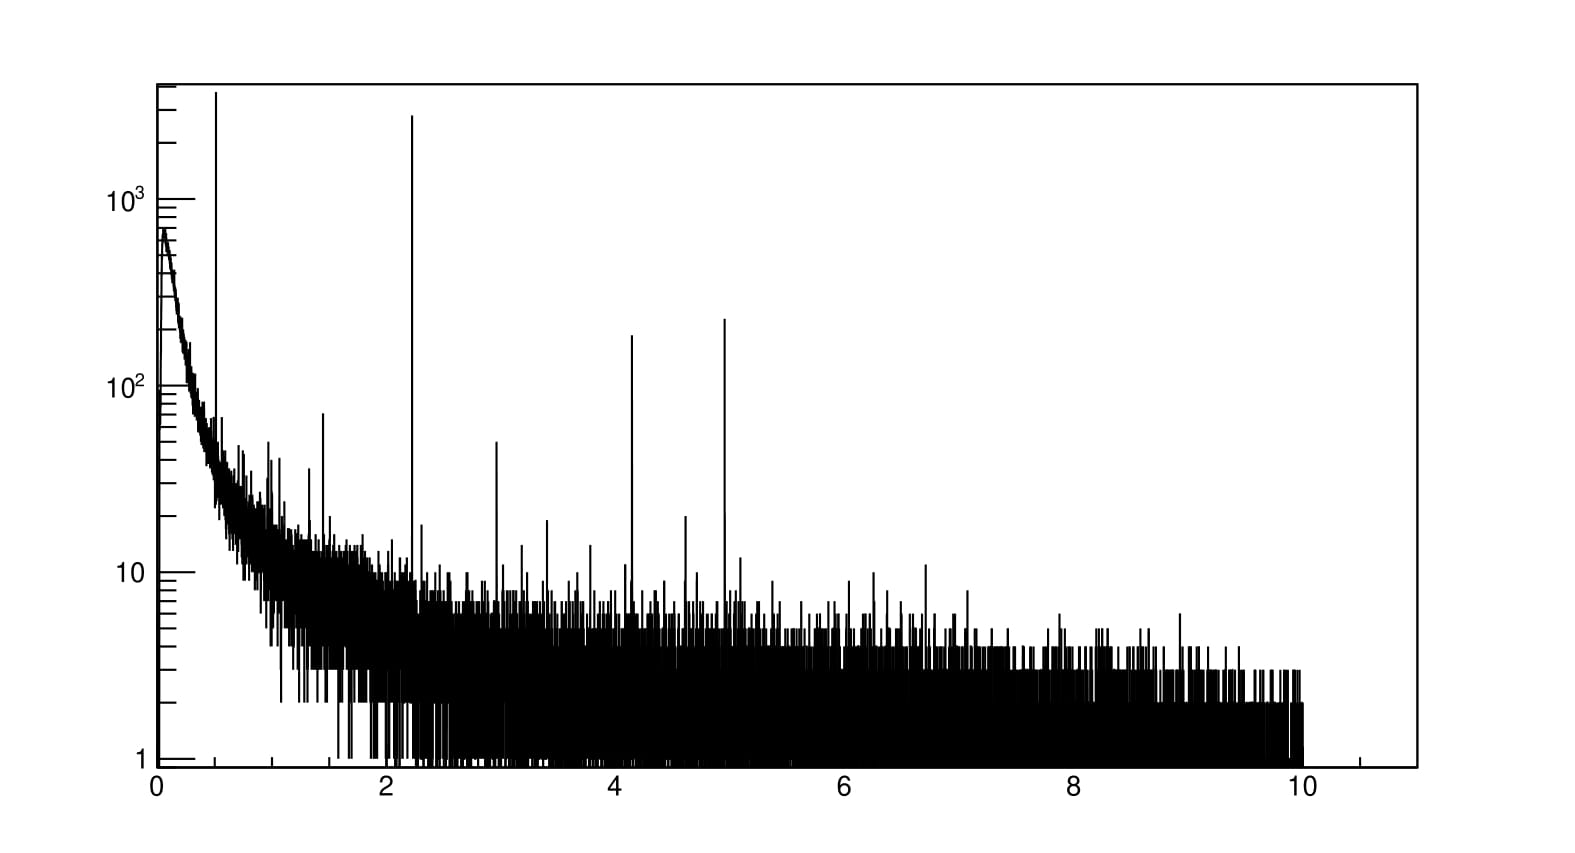gauss: (399, 103, 429, 636), (202, 84, 237, 482), (707, 310, 744, 671), (619, 310, 646, 652), (304, 410, 339, 592), (485, 436, 514, 637)
other: (773, 596, 1333, 841)
